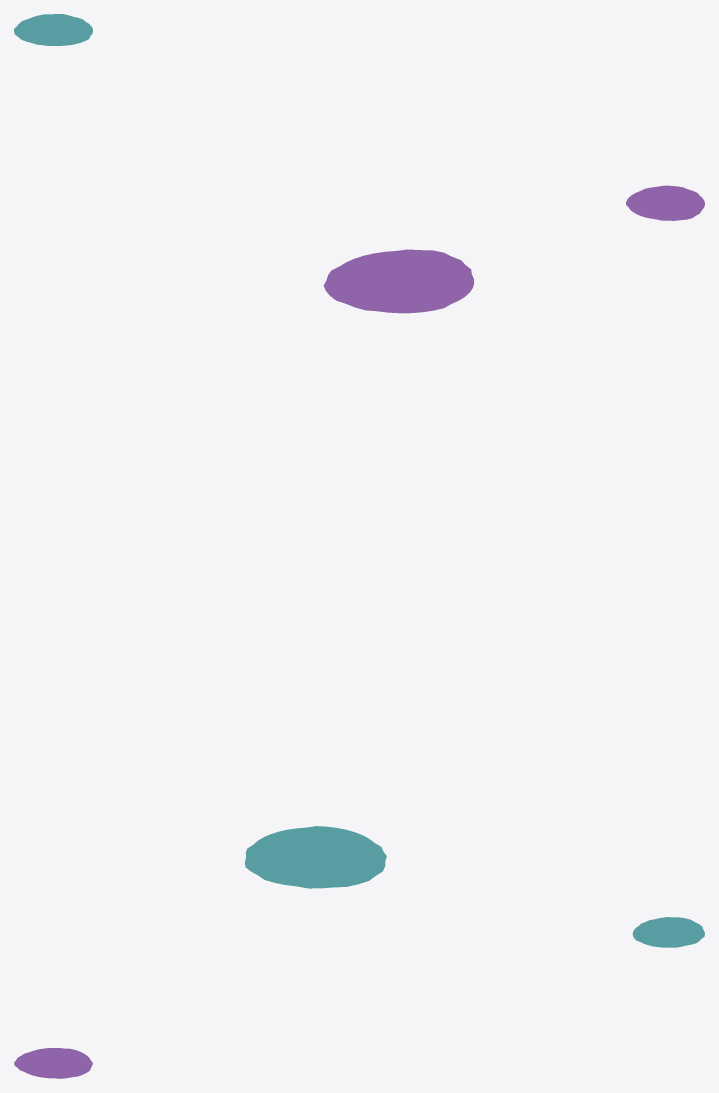
Rendered from CursedCandyCarnival_Water.fbx.
3 renders of one model, top to bottom at view 1: azimuth 30°, elevation 25°; view 2: azimuth 150°, elevation 25°; view 3: azimuth 270°, elevation 25°, orthographic. The views are drawn at different scales.
Visible parts, largest first — view 1: CUR_Water_CursedPond, CUR_Water_GlowPond_West; view 2: CUR_Water_CursedPond, CUR_Water_GlowPond_West; view 3: CUR_Water_CursedPond, CUR_Water_GlowPond_West.
Boxes of the visible parts, x1,y1,x2,y2 form: CUR_Water_CursedPond: (626, 185, 704, 220); CUR_Water_GlowPond_West: (14, 14, 92, 45); CUR_Water_CursedPond: (323, 249, 474, 313); CUR_Water_GlowPond_West: (244, 826, 386, 888); CUR_Water_CursedPond: (14, 1048, 92, 1078); CUR_Water_GlowPond_West: (632, 917, 704, 947).
Size of the model in its own units: 116 by 0.4804 by 211.
